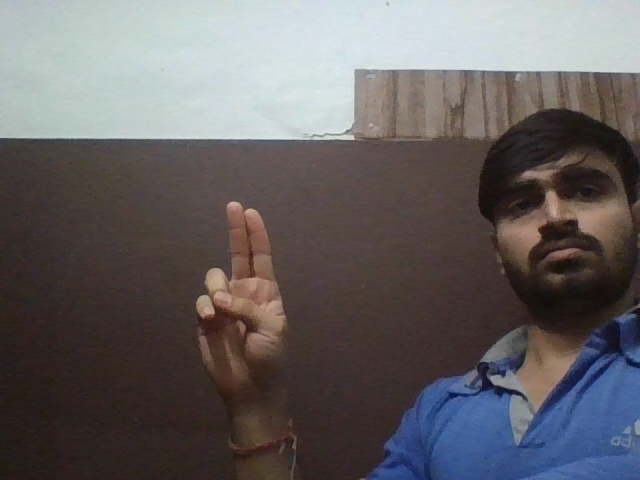U: (184, 198, 299, 396)
